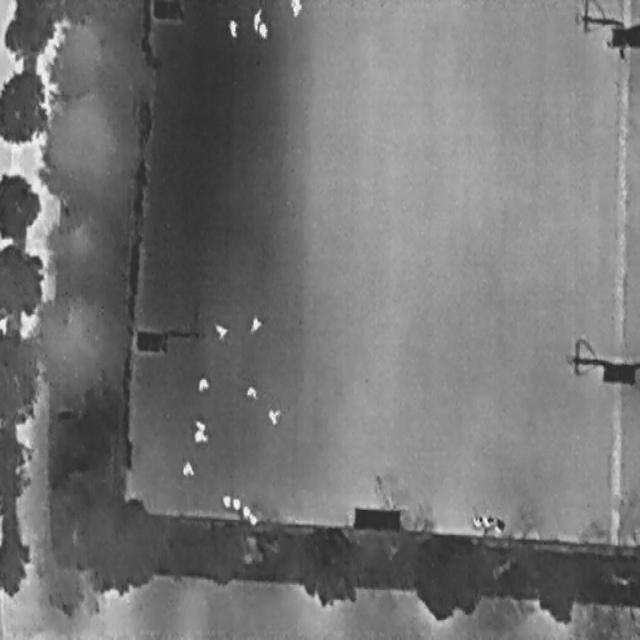Person: (245, 312, 264, 338), (226, 14, 239, 40), (250, 4, 262, 32), (287, 0, 303, 18), (212, 321, 228, 339), (180, 458, 194, 478), (266, 406, 280, 425), (195, 375, 209, 393), (192, 416, 206, 432), (192, 428, 207, 442), (257, 21, 268, 39), (244, 385, 256, 399)
